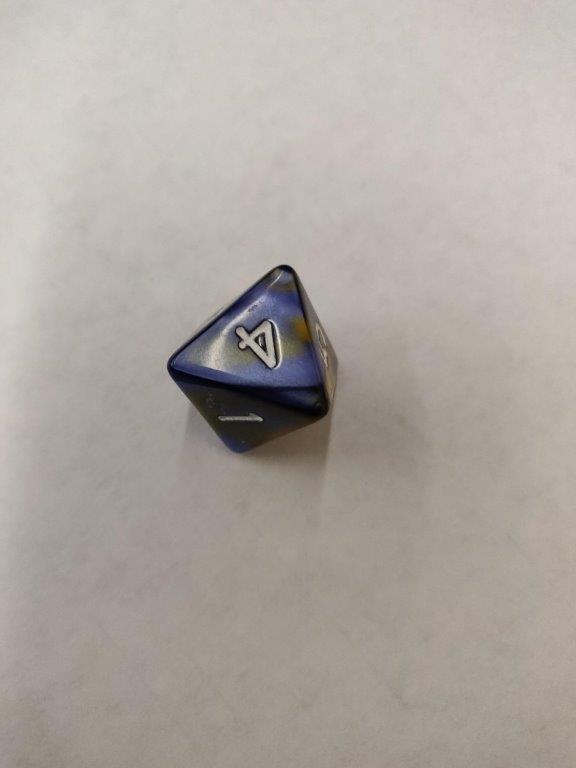d8-4: (166, 265, 335, 456)
